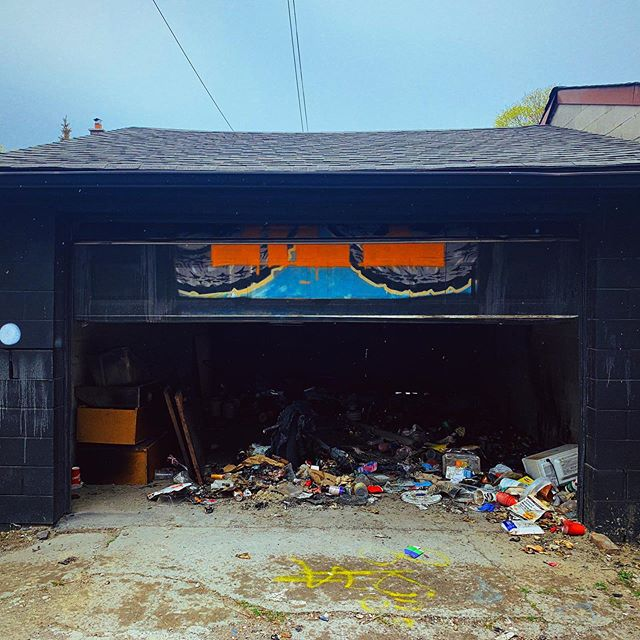building: (23, 122, 633, 521)
sky: (1, 1, 620, 124)
trash: (104, 347, 569, 541)
